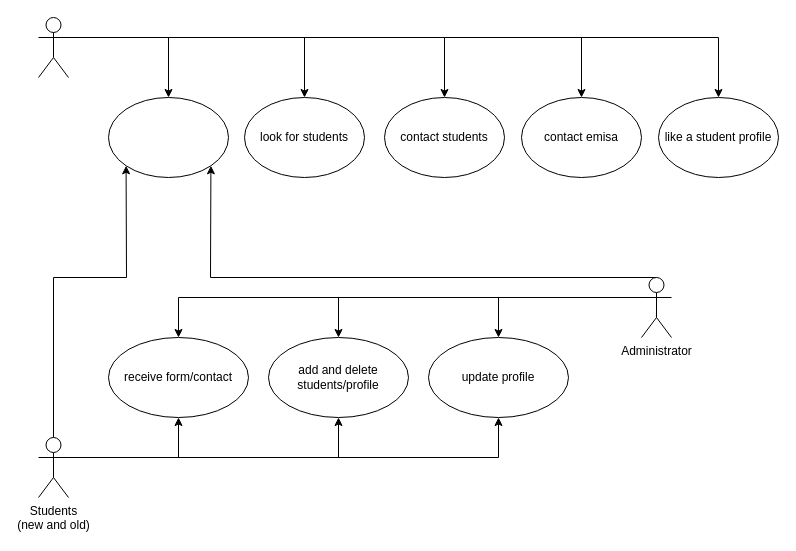
The diagram is 796 pixels wide and 551 high, and some of its shapes have lost their labels. Here are the shapes that lost their labels. From the top down, the centre of each, then its label:
At (53,47): "Visitor Company".
At (168,137): "create profile".
